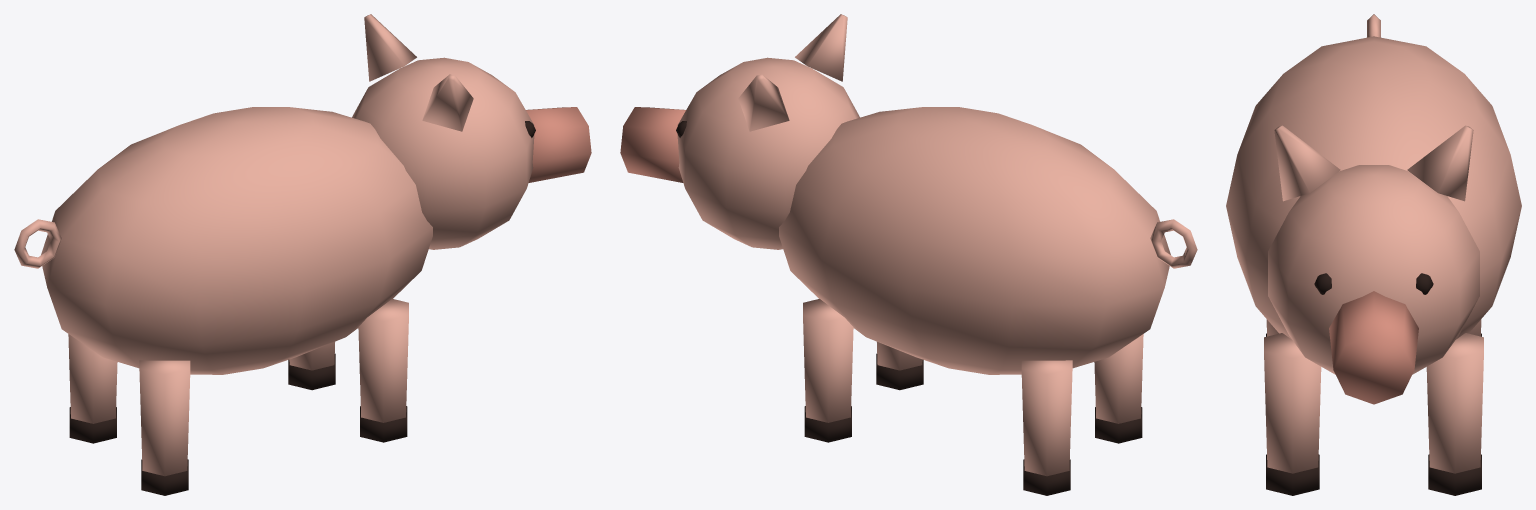
File: pig.glb
3 renders of one model, left to right at view 1: azimuth 30°, elevation 25°; view 2: azimuth 150°, elevation 25°; view 3: azimuth 270°, elevation 25°, orthographic. The views are drawn at different scales.
Parts seen in each view (by area): view 1: Sphere, Sphere.001, Cone.002, Cone.004, Cone, Cone.007, Cone.006, Cone.001, Torus, Cone.003, Cone.005, Cone.008 (+2 smaller); view 2: Sphere, Sphere.001, Cone.007, Cone.009, Cone, Cone.002, Cone.001, Cone.006, Torus, Cone.008, Cone.010, Cone.003 (+2 smaller); view 3: Sphere, Sphere.001, Cone, Cone.004, Cone.009, Cone.001, Cone.006, Cone.005, Cone.010.
Boxes of the visible parts, x1,y1,x2,y2 form: Sphere: (41, 107, 432, 374); Sphere.001: (352, 57, 534, 249); Cone.002: (139, 360, 190, 476); Cone.004: (358, 299, 408, 422); Cone: (526, 107, 591, 182); Cone.007: (68, 334, 117, 423); Cone.006: (364, 14, 416, 81); Cone.001: (422, 74, 473, 131); Torus: (14, 219, 61, 268); Cone.003: (141, 459, 188, 495); Cone.005: (360, 406, 407, 442); Cone.008: (69, 407, 116, 443); Sphere: (779, 107, 1170, 374); Sphere.001: (677, 57, 859, 249); Cone.007: (1021, 360, 1072, 476); Cone.009: (803, 299, 853, 422); Cone: (620, 107, 685, 182); Cone.002: (1094, 334, 1143, 423); Cone.001: (795, 14, 847, 81); Cone.006: (738, 74, 789, 131); Torus: (1150, 219, 1197, 268); Cone.008: (1023, 459, 1070, 495); Cone.010: (804, 406, 851, 442); Cone.003: (1095, 407, 1142, 443); Sphere: (1226, 36, 1521, 339); Sphere.001: (1268, 165, 1479, 374); Cone: (1329, 291, 1418, 404); Cone.004: (1264, 333, 1321, 473); Cone.009: (1426, 333, 1483, 473); Cone.001: (1274, 125, 1340, 201); Cone.006: (1407, 125, 1473, 201); Cone.005: (1266, 454, 1319, 495); Cone.010: (1428, 454, 1481, 495).
Size of the model in its own units: 1.54 by 0.9049 by 0.62.
